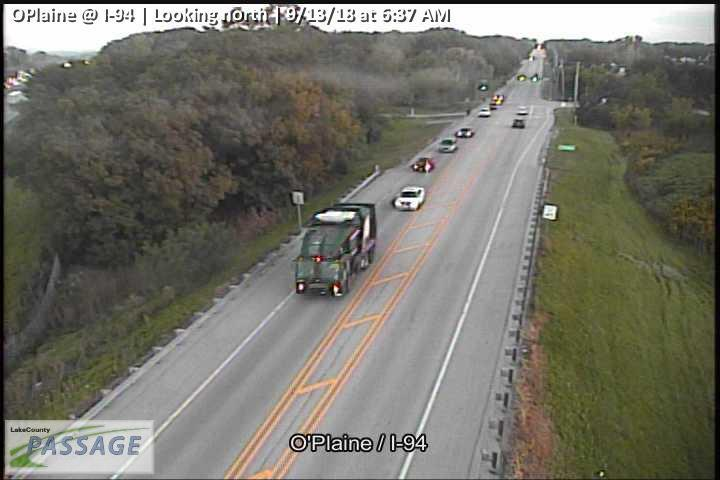SUV: (512, 119, 525, 127)
Sedan: (394, 186, 425, 212), (413, 156, 433, 172), (439, 138, 457, 153), (457, 128, 474, 138), (517, 105, 527, 115), (479, 108, 489, 116)
Truck: (296, 203, 375, 297)
